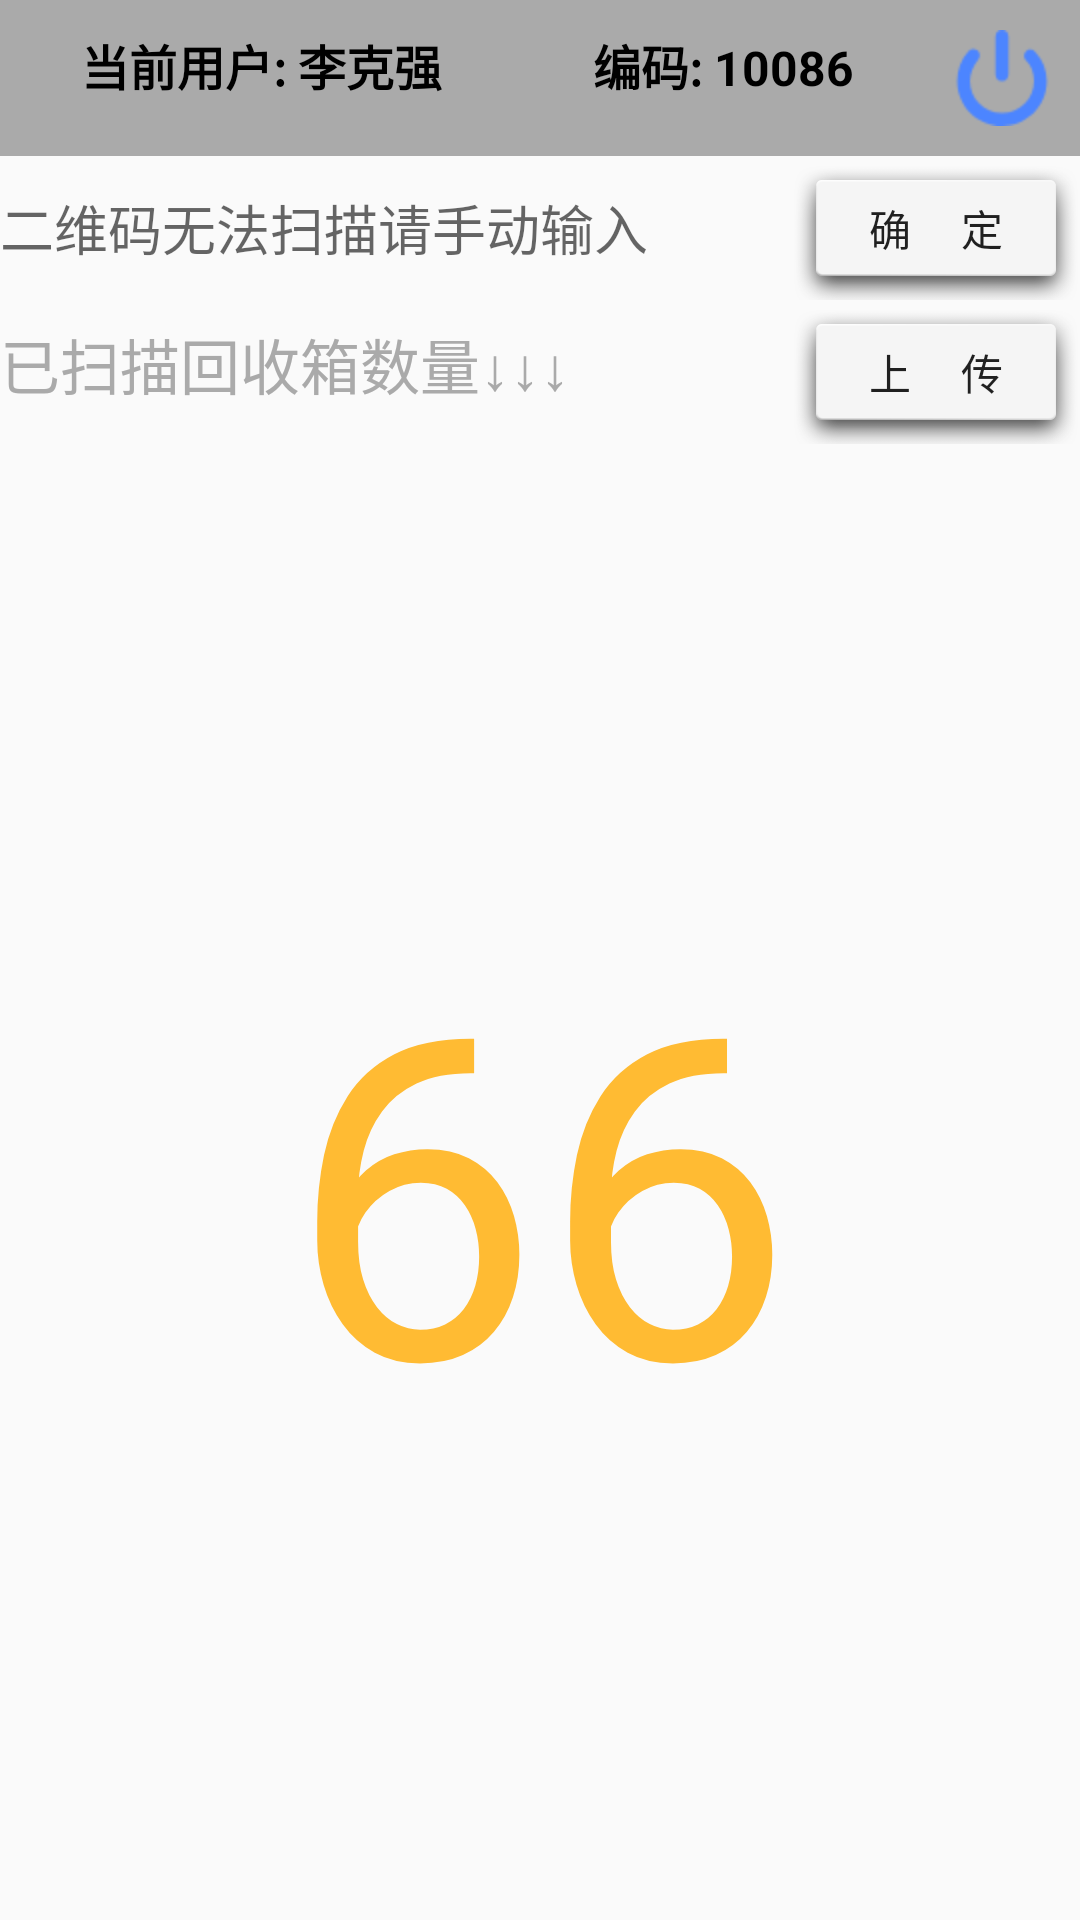

Icon click points for this 1080x1920 phone screenshot, format [x,y]:
exit: [1002,78]
